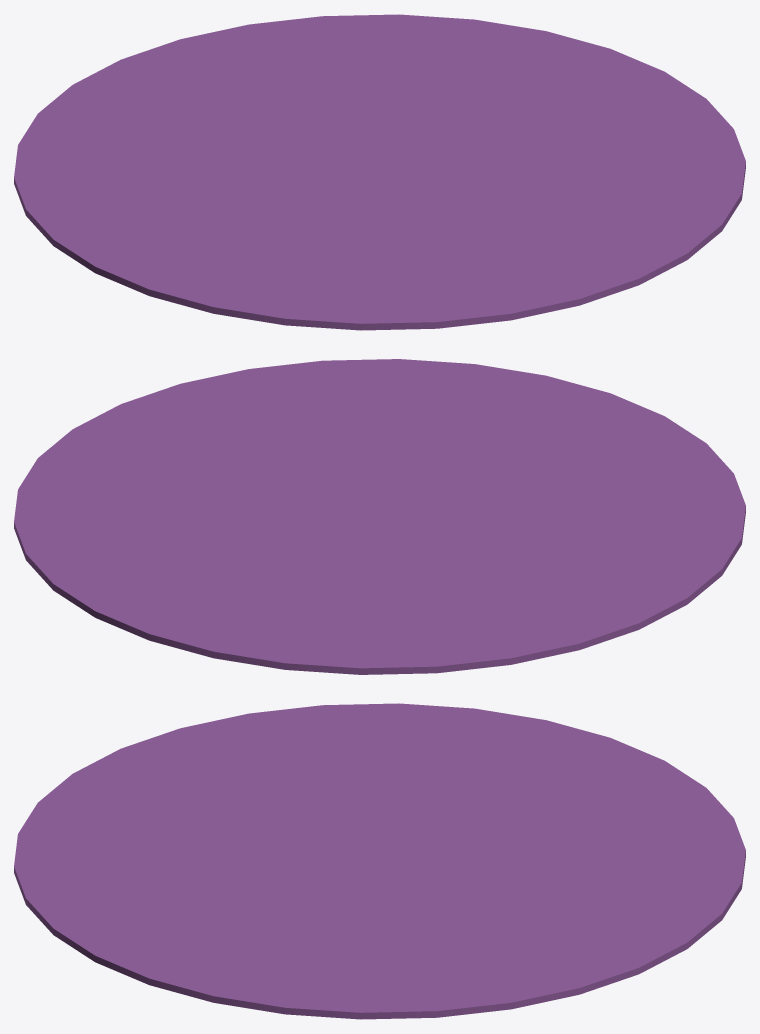
File: Flecha_Detalle.obj
3 views of the same model, one above another, from view 1: azimuth 30°, elevation 25°; view 2: azimuth 150°, elevation 25°; view 3: azimuth 270°, elevation 25° (orthographic).
Parts seen in each view (by area): view 1: Cylinder003; view 2: Cylinder003; view 3: Cylinder003.
Boxes of the visible parts, box(x1,y1,x2,y2) form: Cylinder003: box(14, 14, 745, 330); Cylinder003: box(14, 359, 745, 674); Cylinder003: box(14, 703, 745, 1019).
Size of what is drawn, in the model's own units: 0.9987 by 0.01 by 0.9986.
